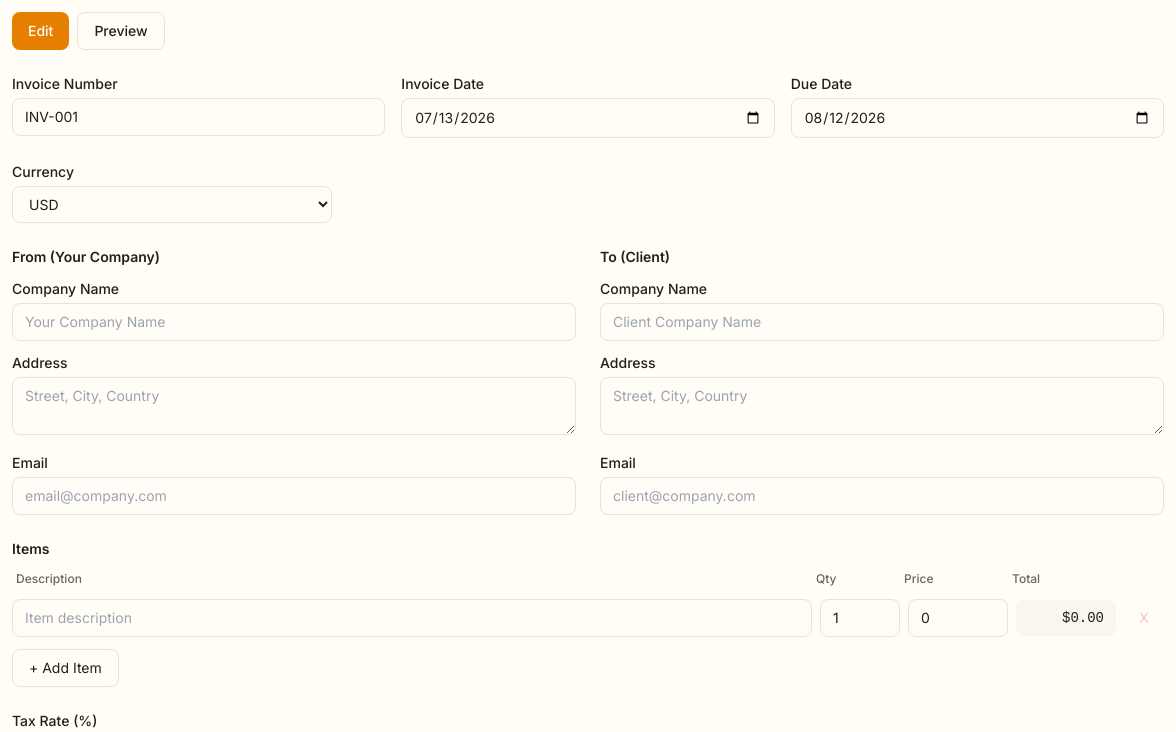
Test: InvoiceGenerator - Deep Tests › shows default company names in preview when fields are empty
Step 1. Click the button "Preview" → [121, 31], box left=77, top=12, right=165, bottom=50
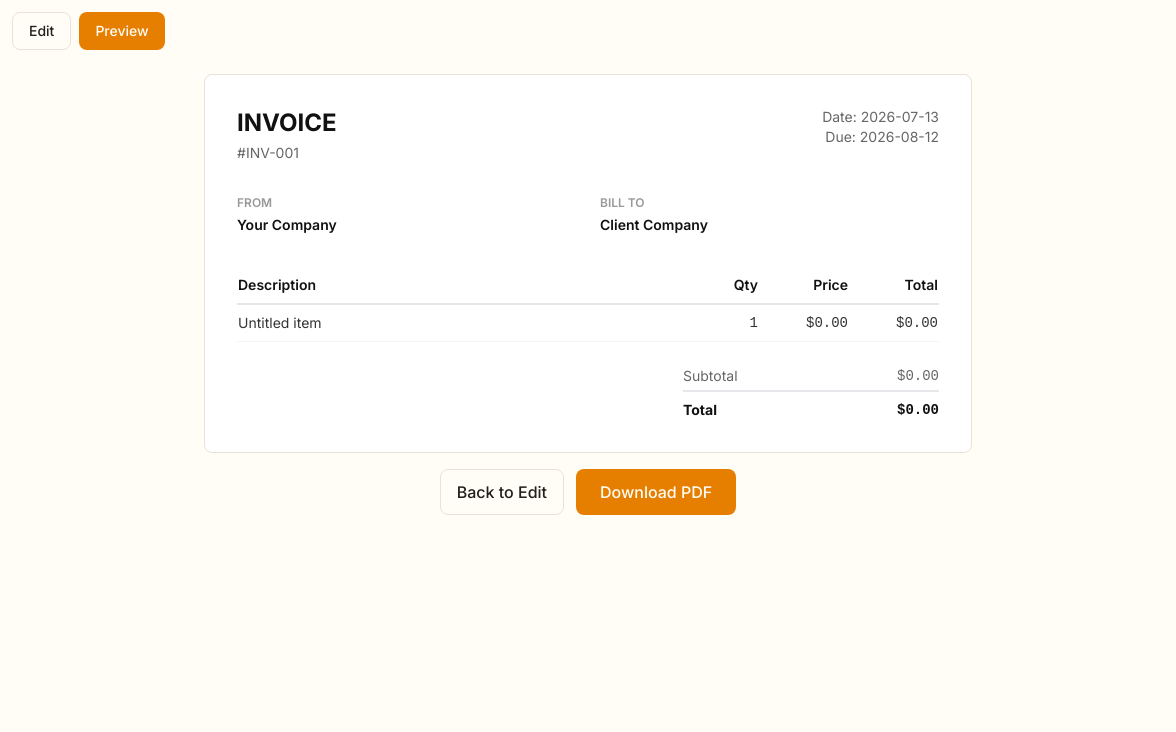
Check: the text "Your Company" is shown, box left=237, top=216, right=337, bottom=233
Check: the text "Client Company" is shown, box left=600, top=216, right=708, bottom=233
